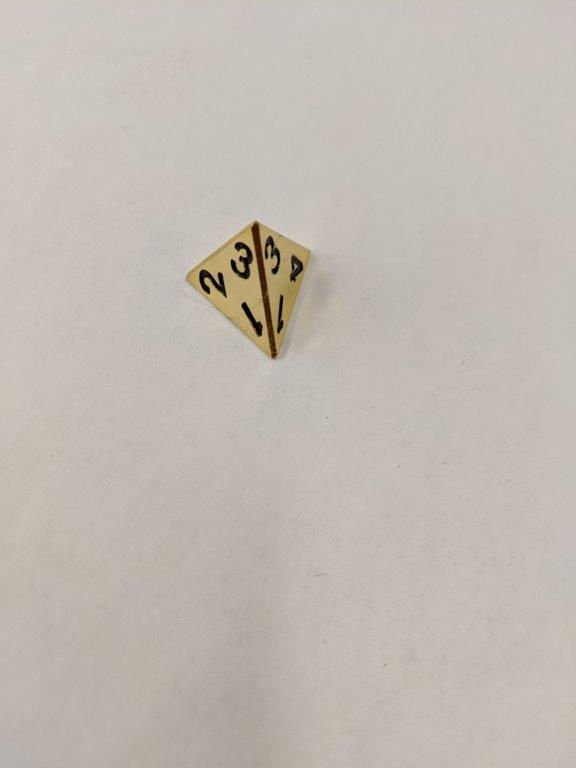d4-3: (185, 217, 316, 366)
